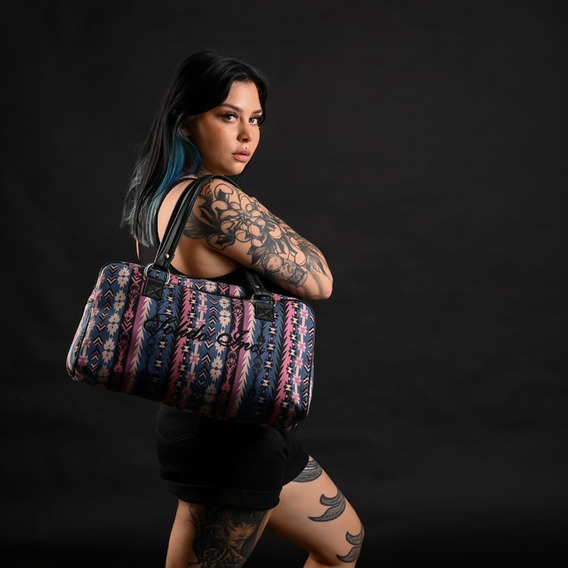cartera: (62, 174, 318, 428)
